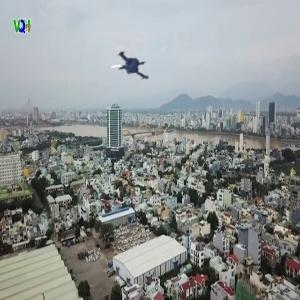drone: (104, 41, 156, 93)
